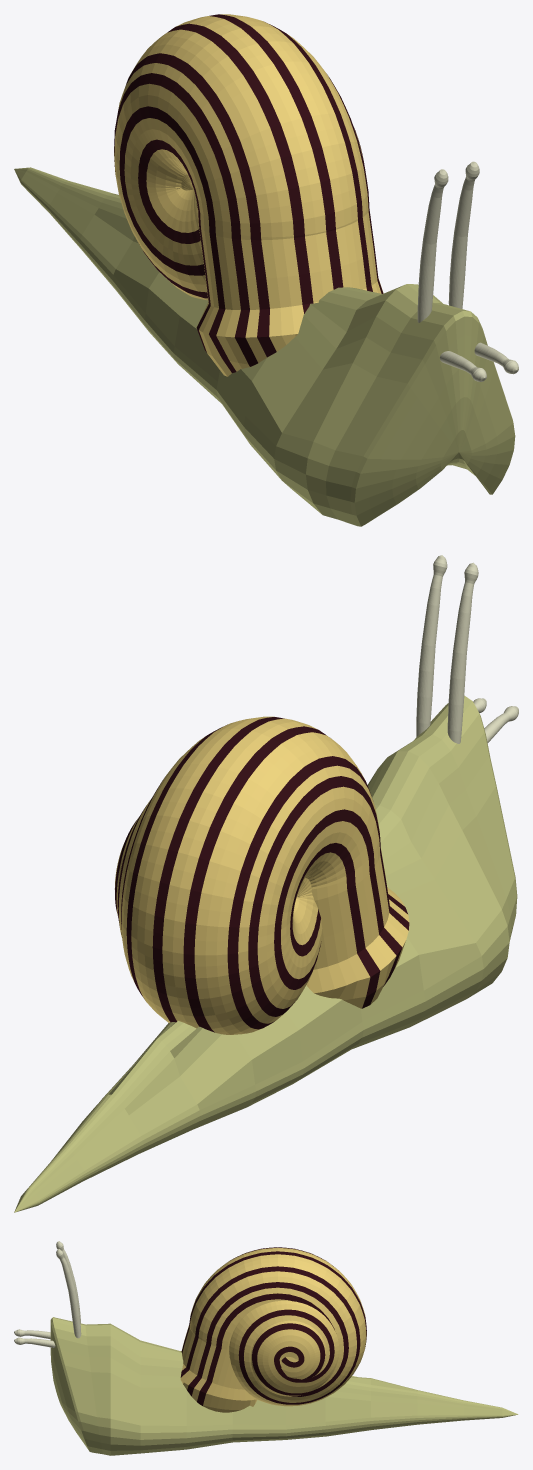
Rendered from Snail.fbx.
The picture shows the model from 3 angles, top to bottom: view 1: azimuth 30°, elevation 25°; view 2: azimuth 150°, elevation 25°; view 3: azimuth 270°, elevation 25°; orthographic projection. The views are drawn at different scales.
Parts seen in each view (by area): view 1: Snail; view 2: Snail; view 3: Snail.
Boxes of the visible parts, <box> form: Snail: <box>14,14,518,526</box>; Snail: <box>14,555,518,1212</box>; Snail: <box>14,1241,518,1455</box>.
Size of the model in its own units: 273 by 456 by 1095.
